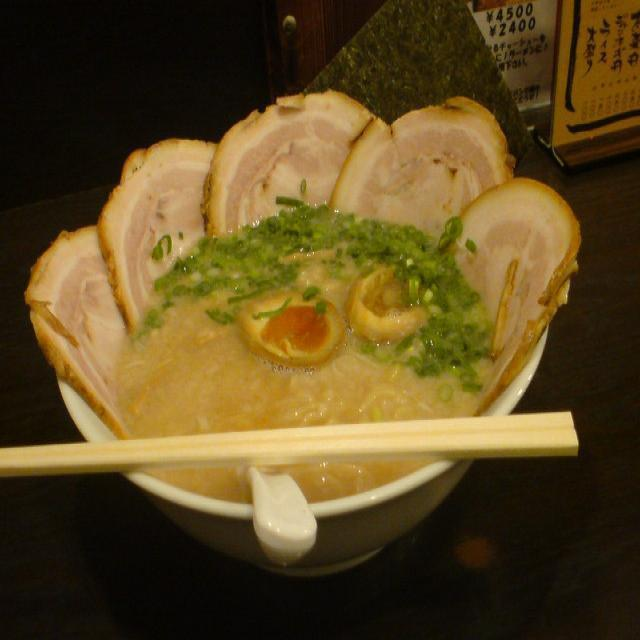beef-noodle: (20, 90, 576, 534)
